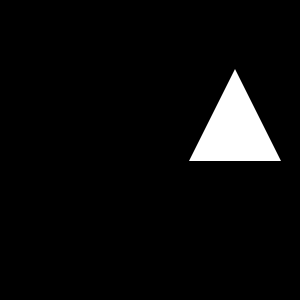triangle: (189, 69, 281, 161)
